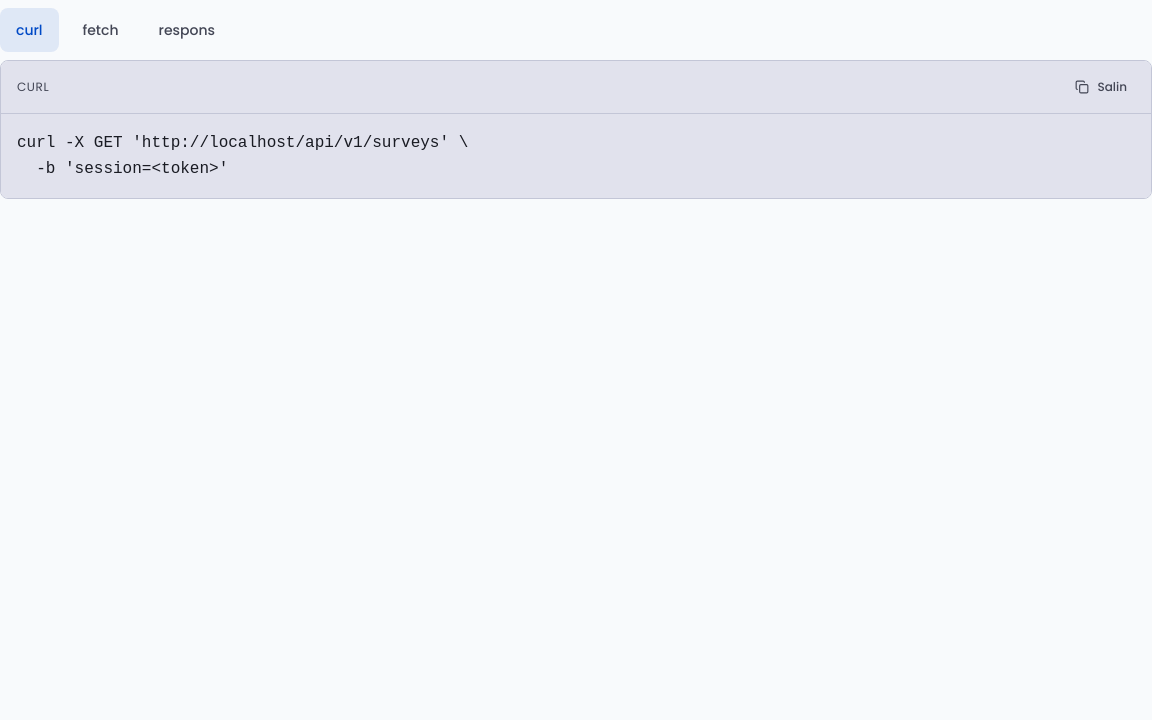
Test: TabSnippet › menyatakan bahwa kode galat tidak dideklarasikan dokumen
The image size is (1152, 720).
Click the button "respons" at (187, 30), box [142, 8, 231, 52]
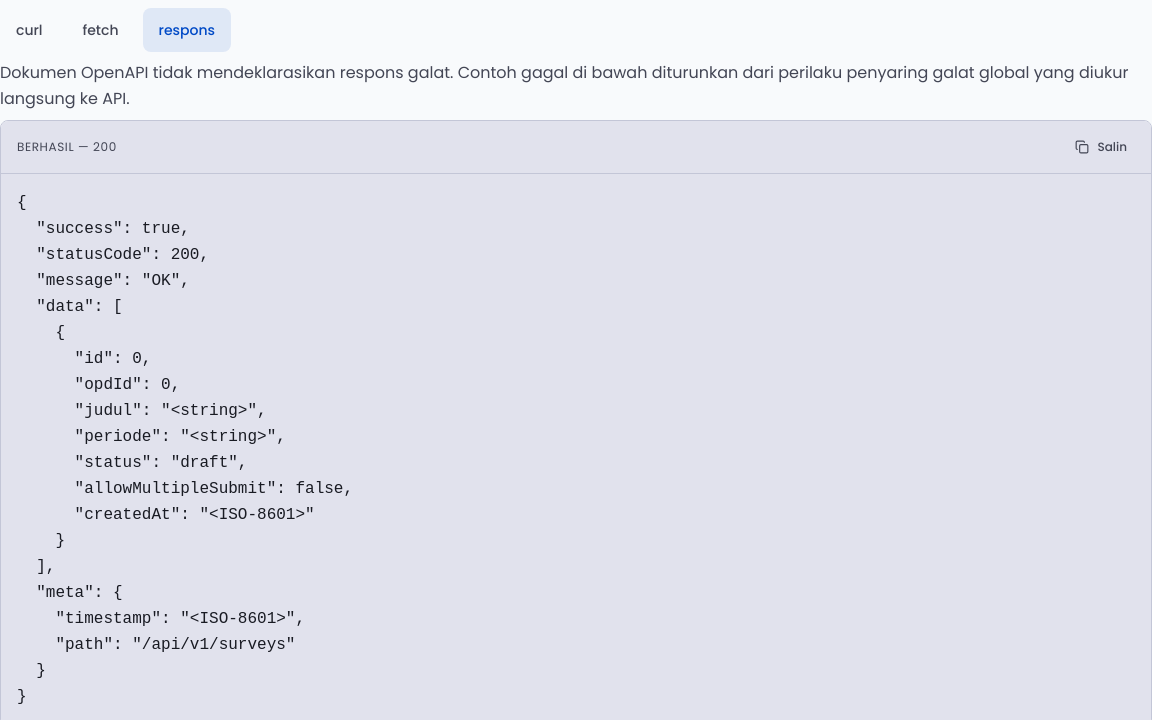
Result: the text "tidak mendeklarasikan respons galat" is shown at [0, 61, 1128, 110]
